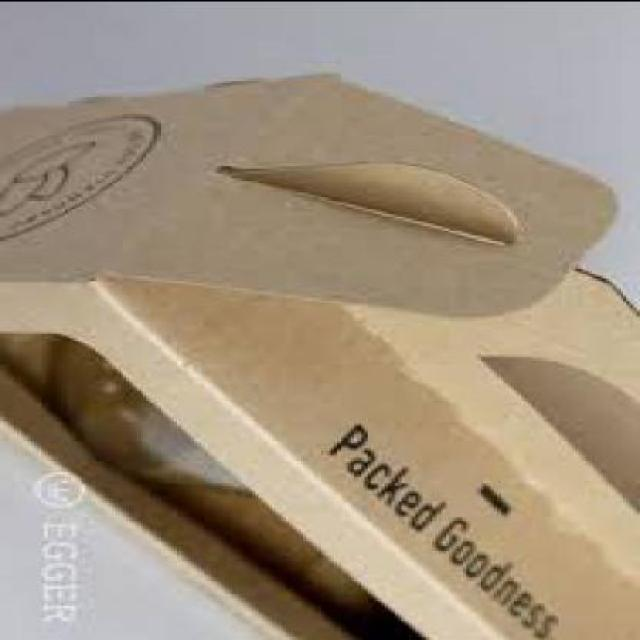cardboard: (3, 66, 639, 639)
